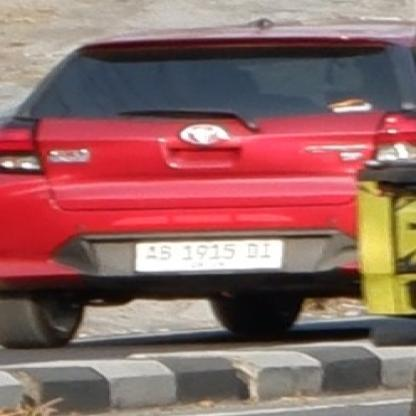Plat-Nomor: (119, 233, 294, 276)
